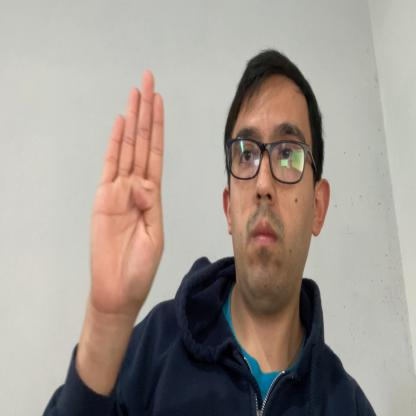B: (90, 69, 165, 320)
